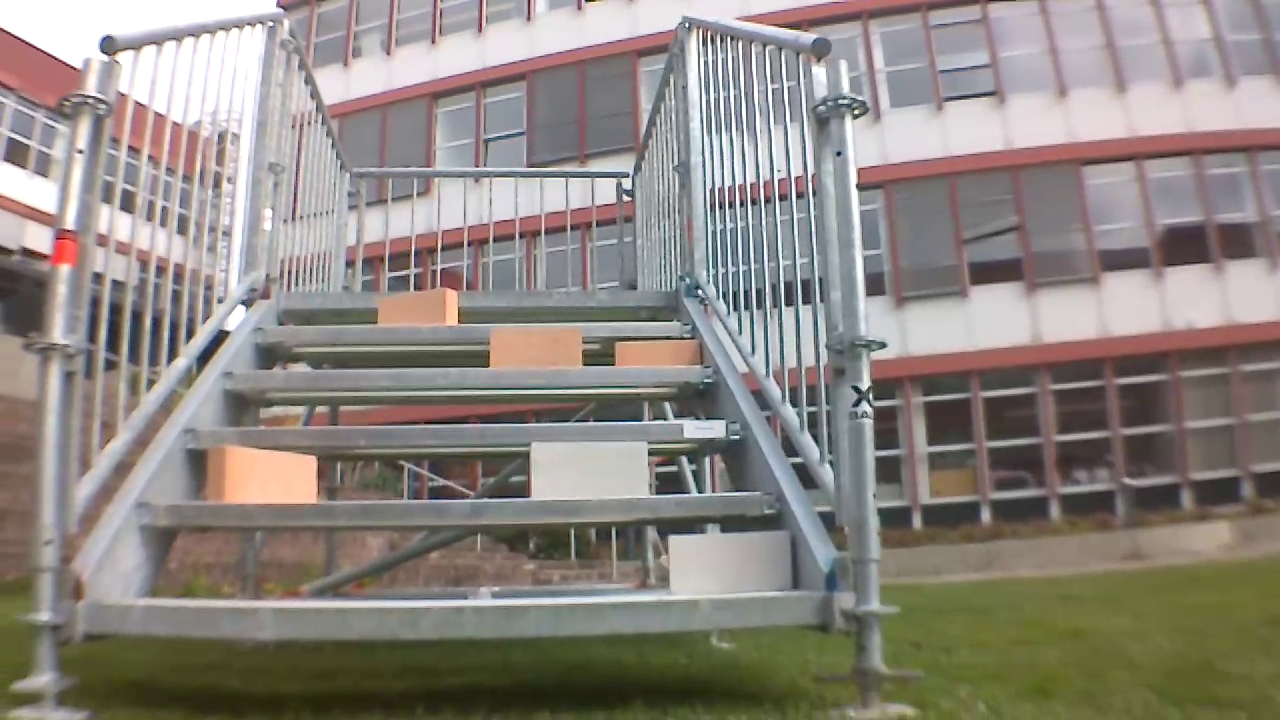brick: (669, 530, 793, 592), (206, 444, 316, 504), (530, 443, 647, 499), (489, 325, 581, 368), (378, 288, 458, 325), (617, 341, 698, 365)
edge: (82, 593, 826, 636), (139, 492, 780, 524), (184, 421, 743, 445), (226, 367, 721, 385), (254, 322, 700, 341), (281, 289, 682, 306)
stairs: (6, 7, 915, 716)
steps: (82, 284, 831, 639)
